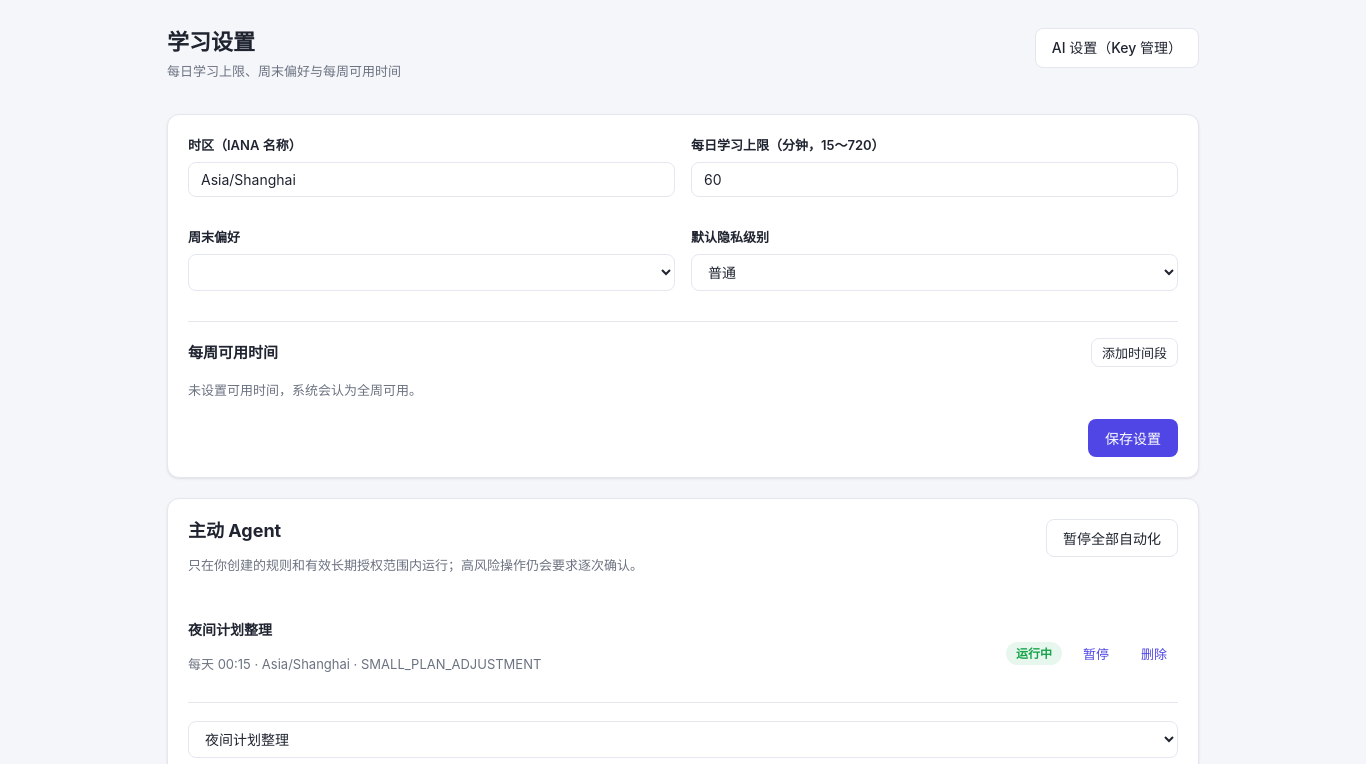
Test: 主动 Agent 设置 › 展示规则并允许用户一键暂停全部主动自动化
Click the button with test id "automation-master-toggle". click: (1112, 538)
box: [1046,519,1178,557]
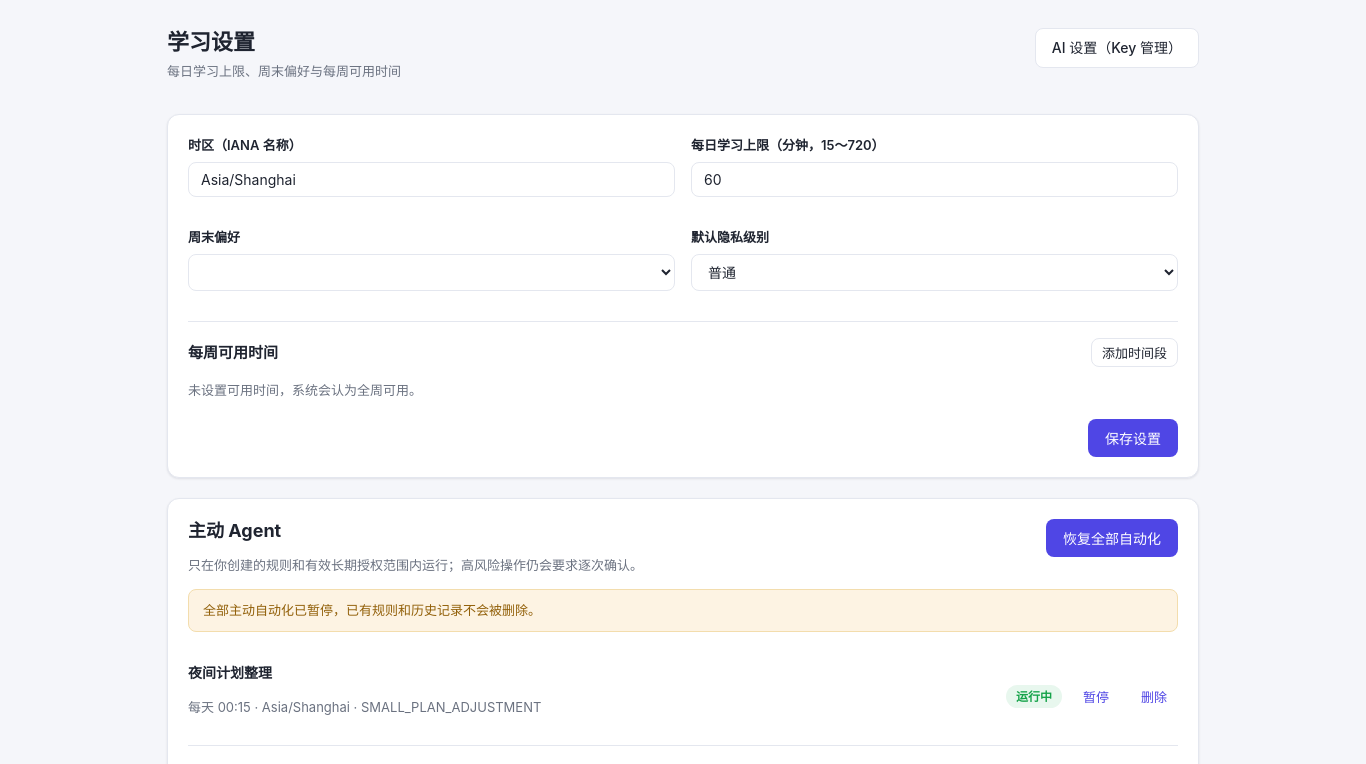
Expected: the text "全部主动自动化已暂停" is shown, [203,602,541,618]
